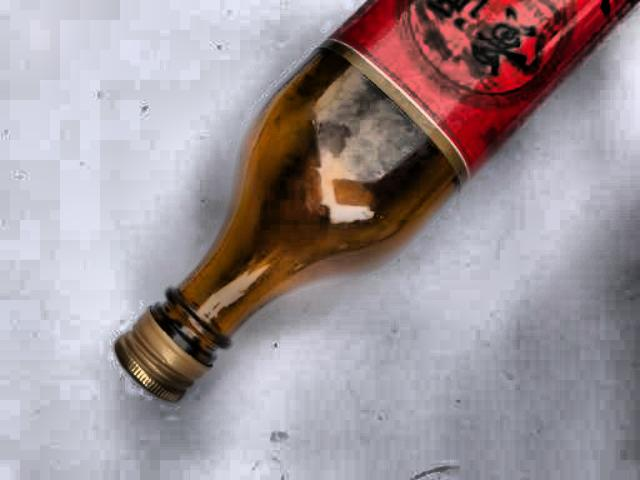Bottles: (69, 0, 640, 412)
